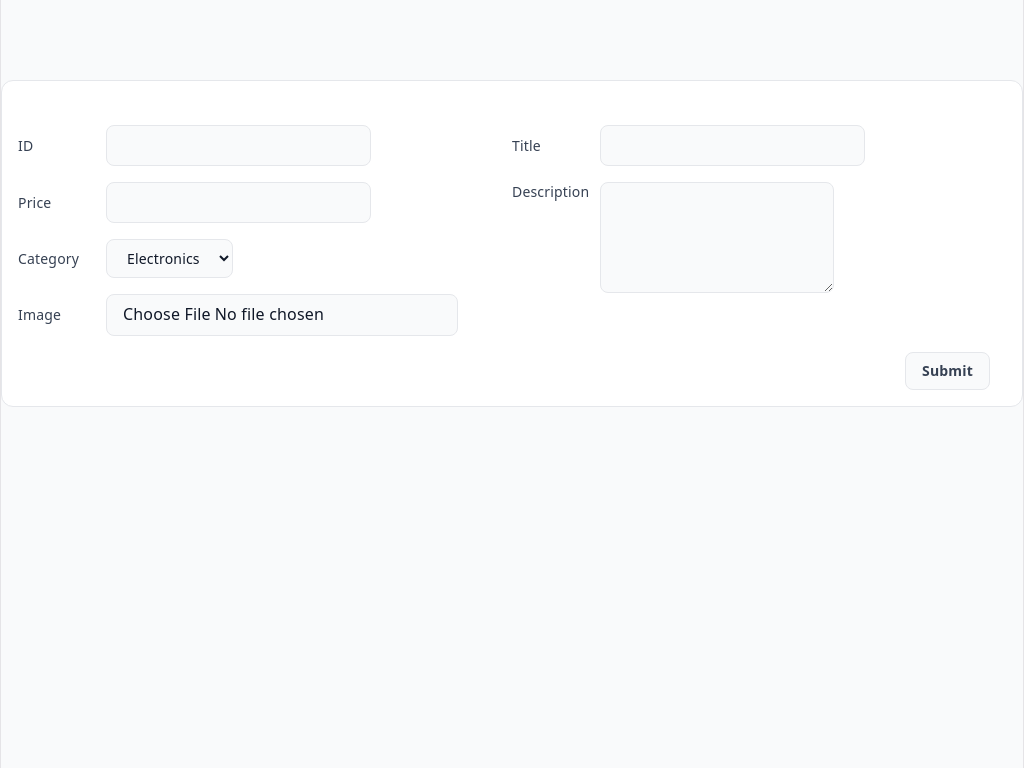
it: NewProduct › should show validation error for required ID field
The image size is (1024, 768).
Click the button "Submit" at point(948, 371), box [905,352,990,390]
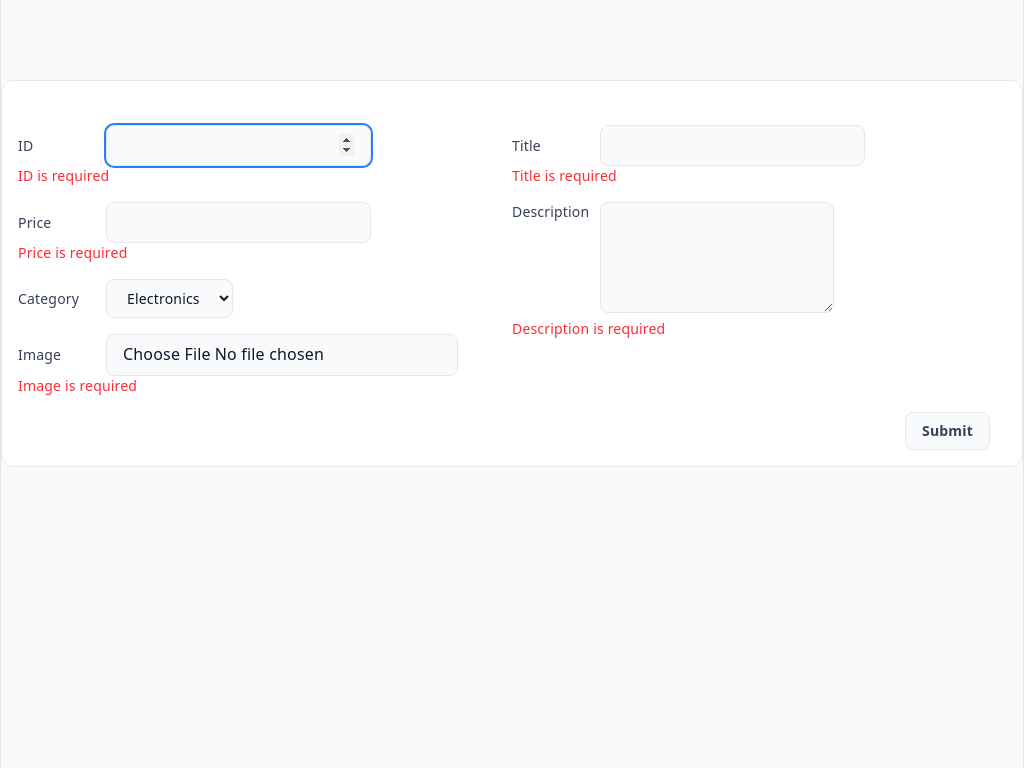
expect the text "ID is required" is shown: met, box [18,166,109,185]
